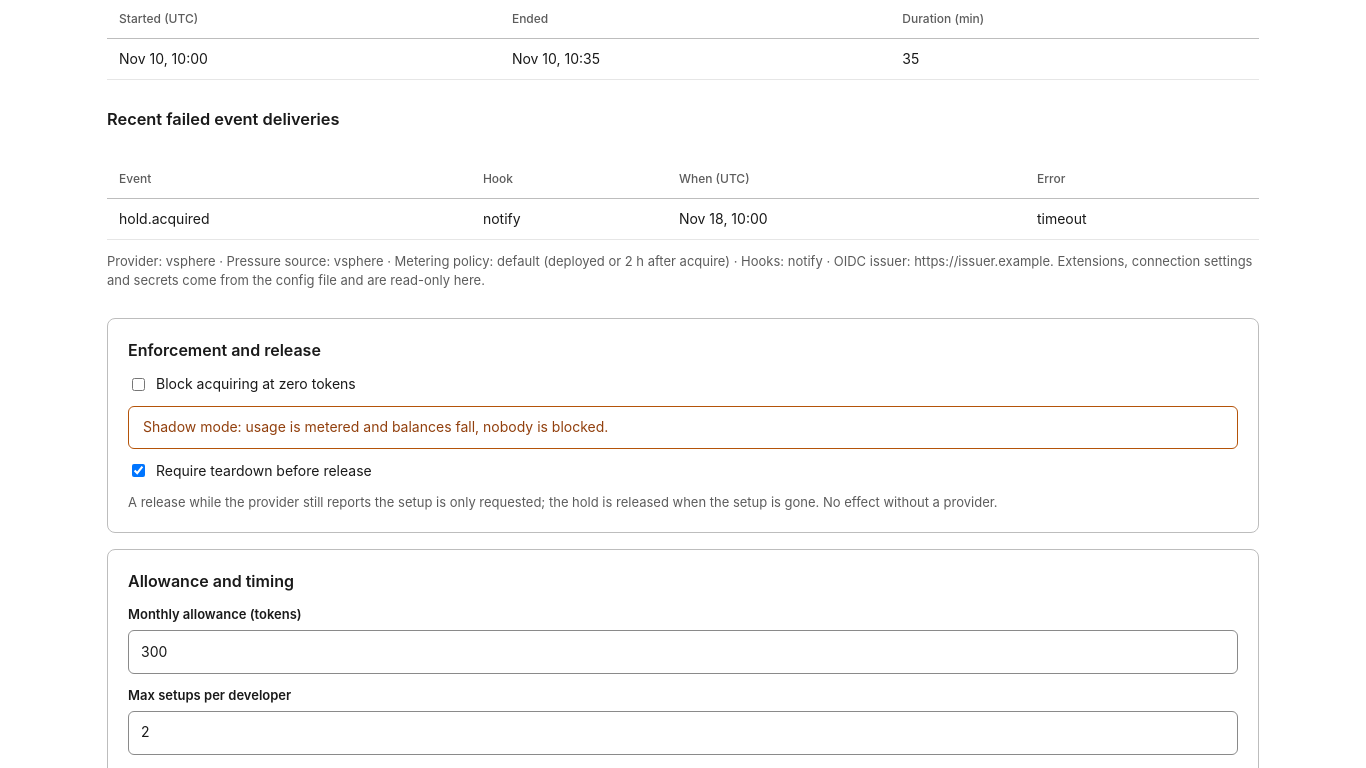
it: ADM-2 settings page states › ADM-2 shows shadow mode when enforcement is off
(page scrolled)
Check: the text "Shadow mode: usage is metered and balances fall, nobody is blocked." is shown, box [128, 406, 1238, 449]
Click the checkbox labelled "Block acquiring at zero tokens" at (138, 384), box [132, 378, 145, 391]
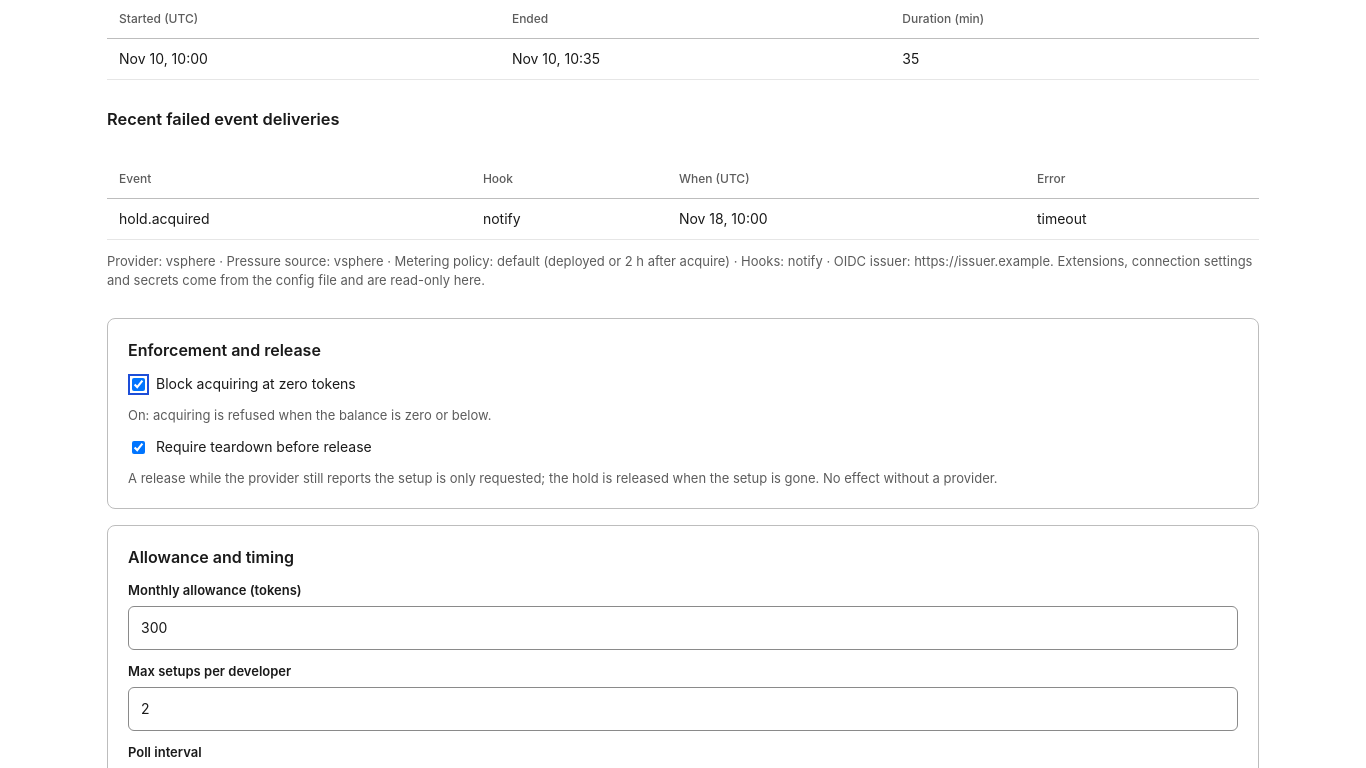
Check: the text "Shadow mode" is gone
